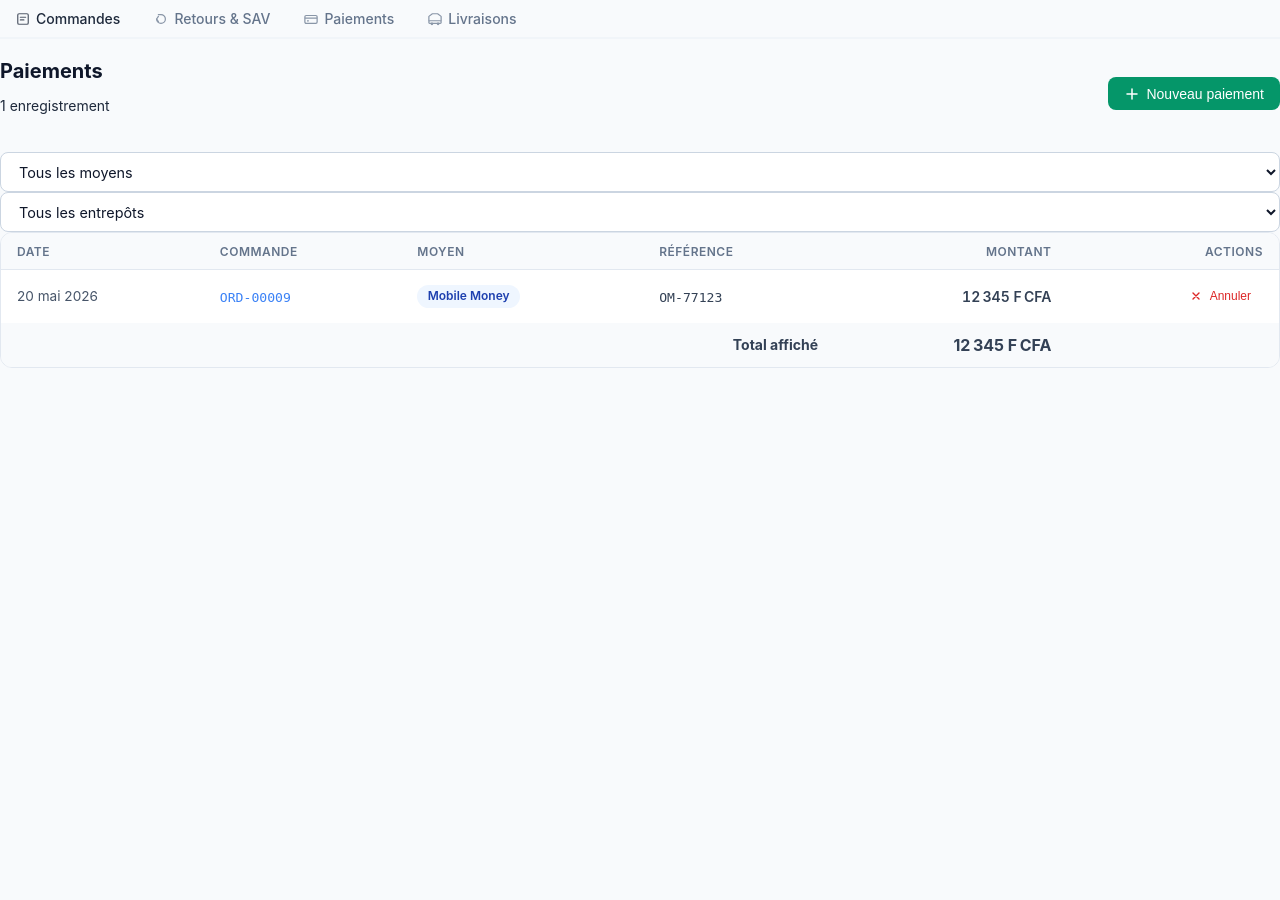
Scenario: PaymentListView › opens the record-payment modal in a shared BaseModal dialog (UX-03)
Click the button "Nouveau paiement" at (1194, 94), box [1108, 77, 1279, 110]
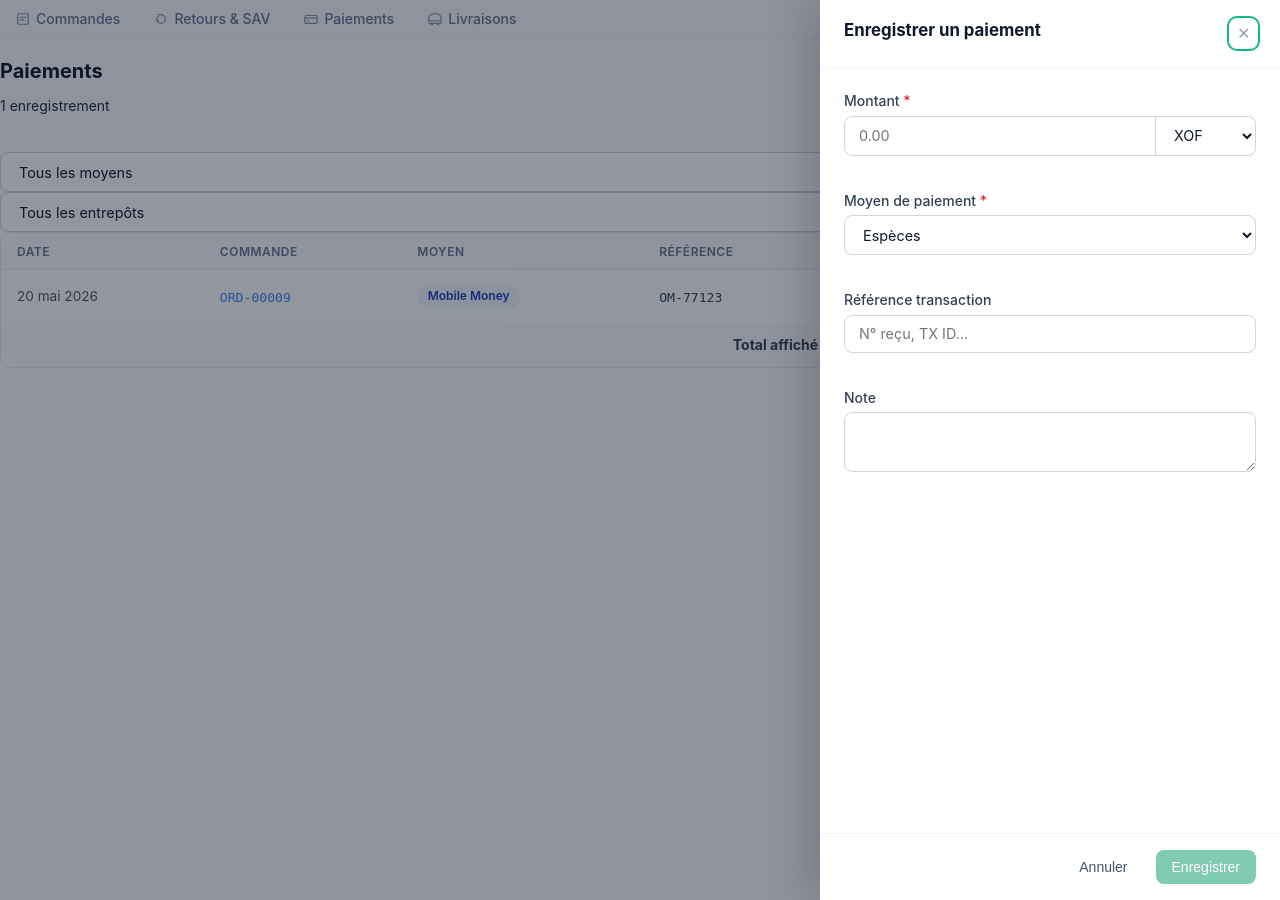
Now the dialog is shown, box [820, 0, 1279, 899]
Now the dialog shows "Enregistrer un paiement", box [844, 20, 1041, 40]
